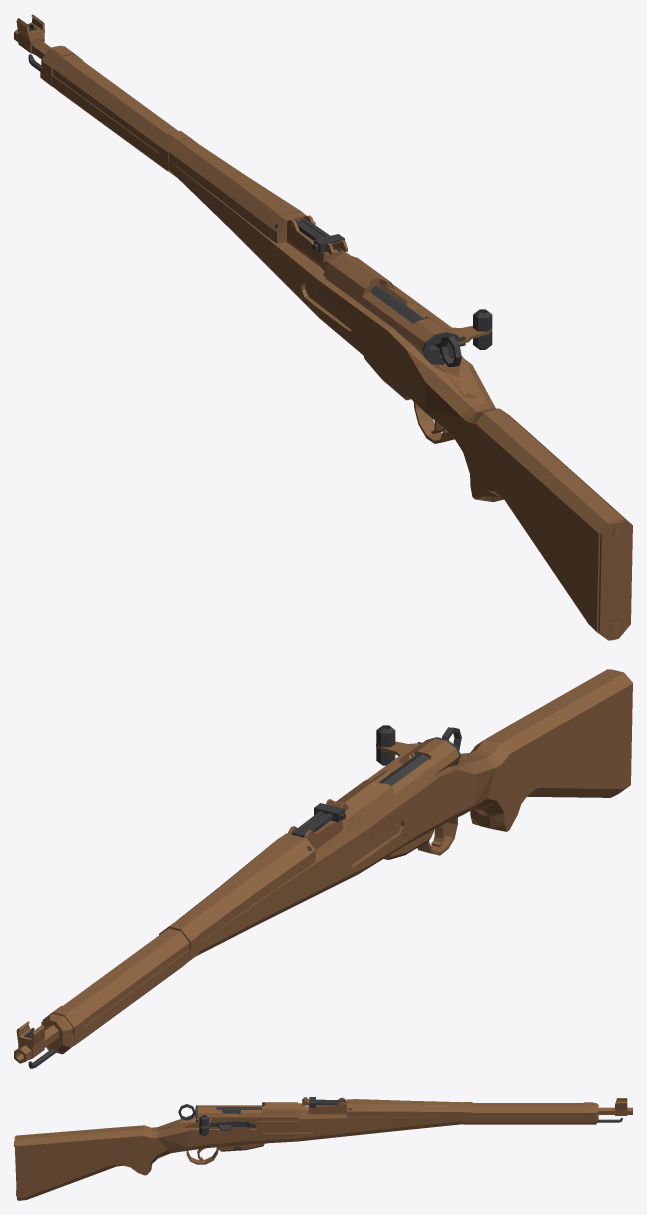
The picture shows the model from 3 angles, top to bottom: view 1: azimuth 30°, elevation 25°; view 2: azimuth 150°, elevation 25°; view 3: azimuth 270°, elevation 25°; orthographic projection. The views are drawn at different scales.
Visible parts, largest first — view 1: k31; view 2: k31; view 3: k31.
Boxes of the visible parts, <box> form: k31: <box>14,14,632,640</box>; k31: <box>14,669,632,1068</box>; k31: <box>14,1097,632,1200</box>.
Size of the model in its own units: 0.0867 by 0.1976 by 1.1.
